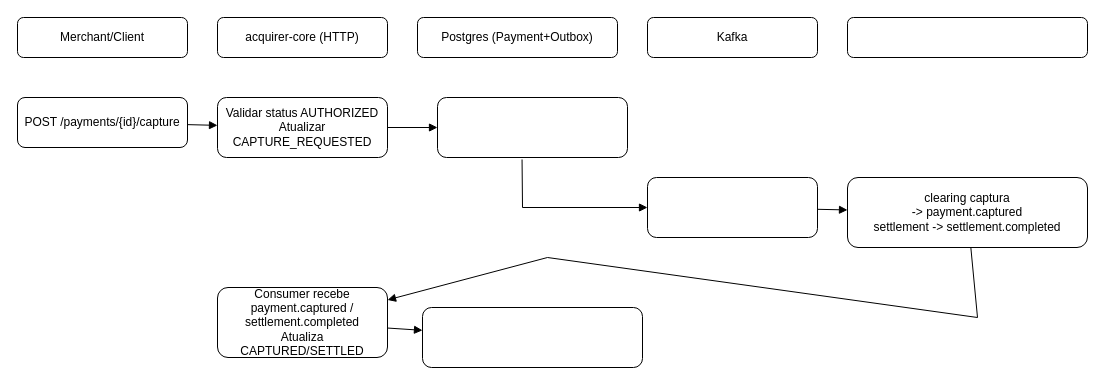
The diagram is 1105 pixels wide and 385 high, and some of its shapes have lost their labels. Each missing label, with the centre of its shape:
"clearing + settlement" goes at (x=967, y=37).
"OutboxPublisher publica payment.capture.requested" goes at (x=732, y=207).
"Persistir novo status (CAPTURED/SETTLED)" goes at (x=532, y=337).
"TX: update Payment TX: inserir OutboxEvent (payment.capture.requested)" goes at (x=532, y=127).
